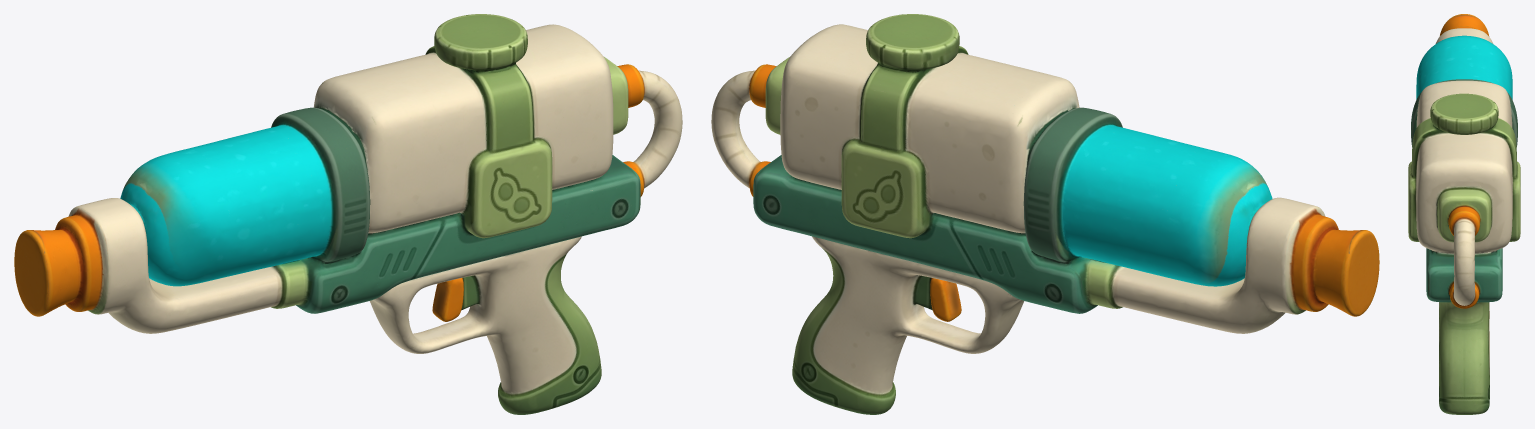
Rendered from Soyjet_gun_texture.glb.
3 views of the same model, side by side, from view 1: azimuth 30°, elevation 25°; view 2: azimuth 150°, elevation 25°; view 3: azimuth 270°, elevation 25° (orthographic). The views are drawn at different scales.
Size of the model in its own units: 1.9 by 1.09 by 0.389.
Materials: 1 (1 with a texture image).
